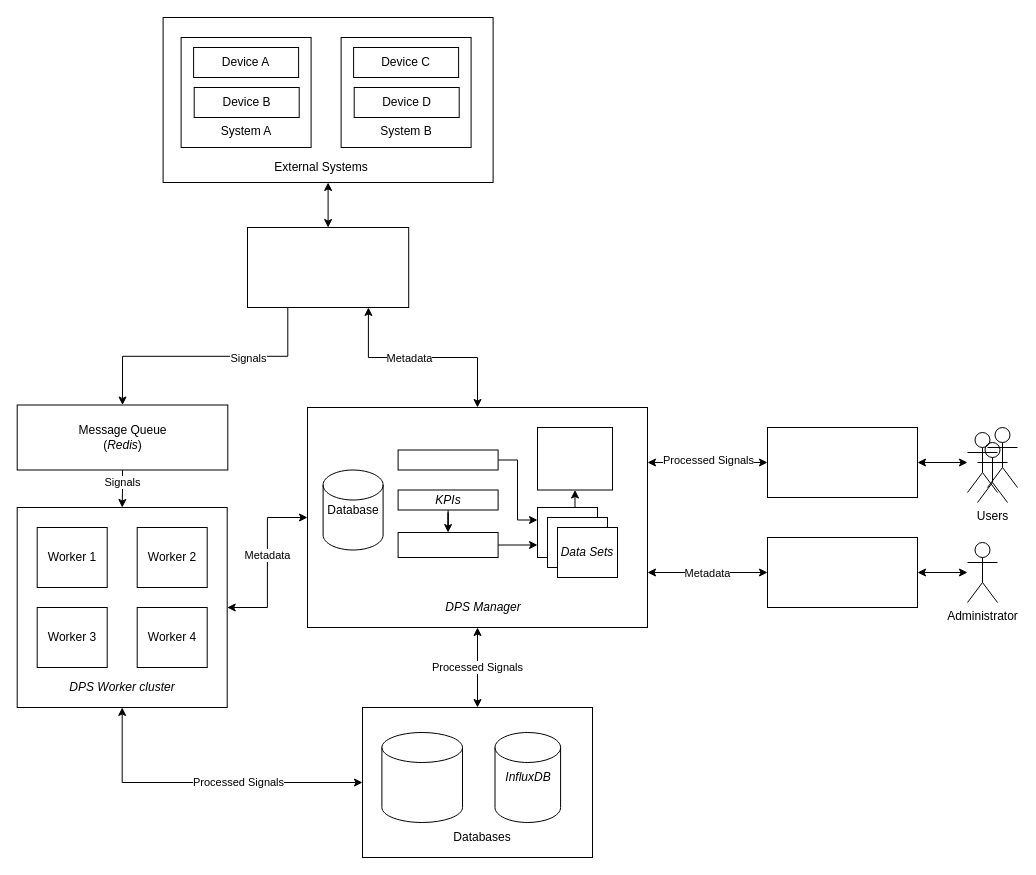
The diagram is 1036 pixels wide and 875 high, and some of its shapes have lost their labels. Here are the shapes that lost their labels. From the top down, the centre of each, then its label:
At point (327, 267): "DPS Client".
At point (447, 459): "Data Sources".
At point (574, 458): "Batch Process".
At point (842, 462): "DPS UI (End-user)".
At point (447, 545): "Systems".
At point (842, 572): "DPS UI (Administrator)".
At point (421, 777): "TimescaleDB".
